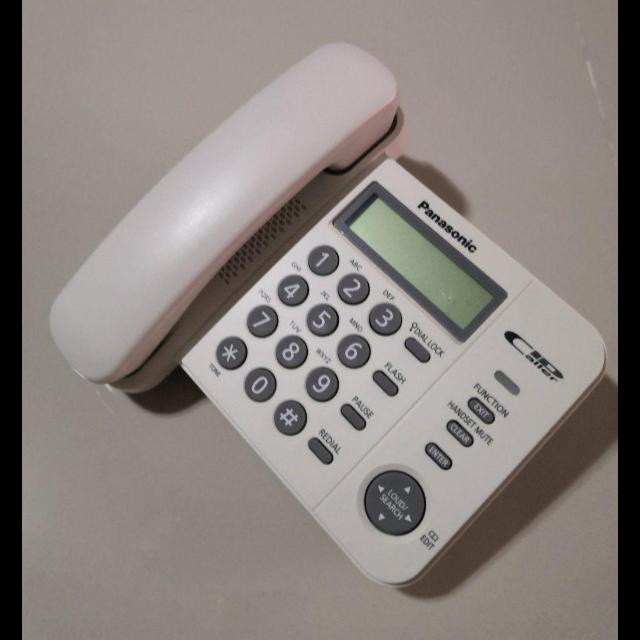Telephone-Set: (54, 26, 618, 584)
